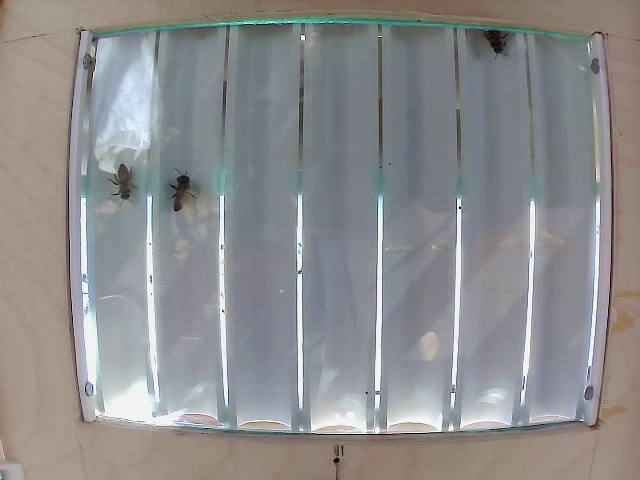bee: (99, 163, 152, 215), (486, 20, 517, 75), (163, 181, 198, 225)
